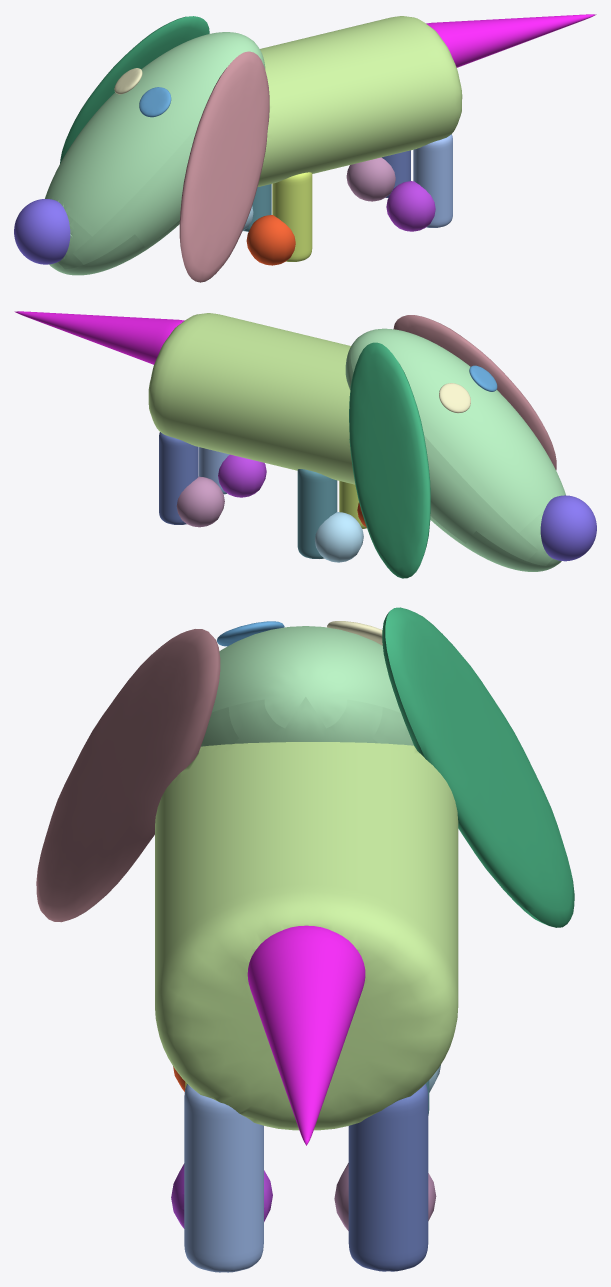
The picture shows the model from 3 angles, top to bottom: view 1: azimuth 30°, elevation 25°; view 2: azimuth 150°, elevation 25°; view 3: azimuth 270°, elevation 25°; orthographic projection. The views are drawn at different scales.
Visible parts, largest first — view 1: Object_36, split_parent_12, Object_25, Object_36.004, Object_27, Object_34.006, Object_11, Object_13, Object_20, Object_18, Object_22, Object_30 (+3 smaller); view 2: Object_36, split_parent_12, Object_27, Object_36.004, Object_25, Object_34.006, Object_9, split_parent_0, Object_16, Object_22, Object_20, Object_32 (+3 smaller); view 3: Object_36, Object_25, Object_27, split_parent_12, Object_36.004, Object_13, split_parent_0, Object_22, Object_20.
Part boxes in pixels (x1,y1,x2,y2): Object_36: [257, 16, 462, 186]; split_parent_12: [45, 32, 265, 275]; Object_25: [179, 51, 269, 282]; Object_36.004: [426, 14, 596, 67]; Object_27: [60, 16, 209, 163]; Object_34.006: [14, 199, 70, 264]; Object_11: [272, 172, 312, 261]; Object_13: [413, 134, 452, 227]; Object_20: [386, 181, 435, 231]; Object_18: [246, 215, 295, 265]; Object_22: [346, 157, 395, 201]; Object_30: [139, 87, 171, 117]; Object_36: [148, 313, 355, 484]; split_parent_12: [345, 328, 565, 571]; Object_27: [349, 342, 430, 578]; Object_36.004: [14, 311, 184, 364]; Object_25: [393, 315, 556, 470]; Object_34.006: [540, 495, 596, 561]; Object_9: [297, 469, 337, 558]; split_parent_0: [159, 432, 198, 524]; Object_16: [314, 512, 363, 562]; Object_22: [176, 476, 224, 527]; Object_20: [218, 454, 266, 497]; Object_32: [439, 383, 470, 413]; Object_36: [155, 742, 458, 1130]; Object_25: [36, 629, 220, 922]; Object_27: [382, 607, 574, 927]; split_parent_12: [201, 626, 413, 746]; Object_36.004: [247, 925, 365, 1145]; Object_13: [184, 1084, 263, 1272]; split_parent_0: [348, 1084, 428, 1271]; Object_22: [334, 1163, 436, 1230]; Object_20: [171, 1163, 272, 1228].
Size of the model in its own units: 1 by 0.3743 by 0.4028.
